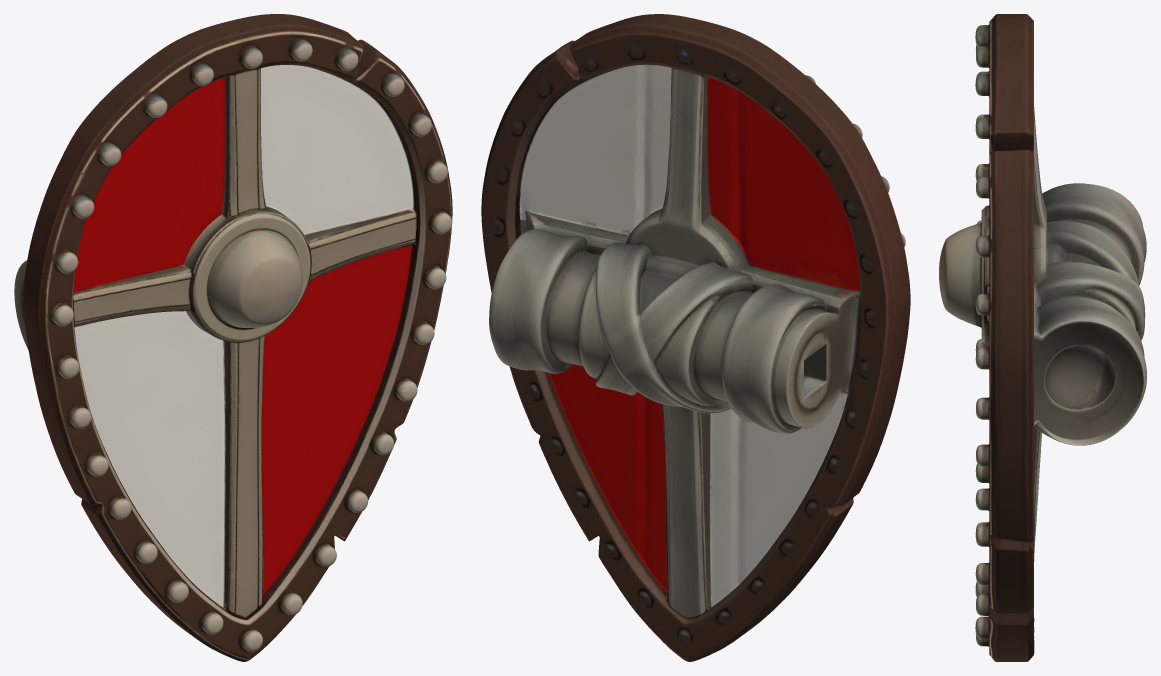
The model's file is shield.glb.
3 views of the same model, side by side, from view 1: azimuth 30°, elevation 25°; view 2: azimuth 150°, elevation 25°; view 3: azimuth 270°, elevation 25° (orthographic).
Visible parts, largest first — view 1: mesh_node; view 2: mesh_node; view 3: mesh_node.
Boxes of the visible parts, x1,y1,x2,y2 form: mesh_node: (14,14,452,661); mesh_node: (481,14,910,661); mesh_node: (939,14,1146,661).
Size of the model in its own units: 1.31 by 1.9 by 0.5723.
1 material, 1 textured.
